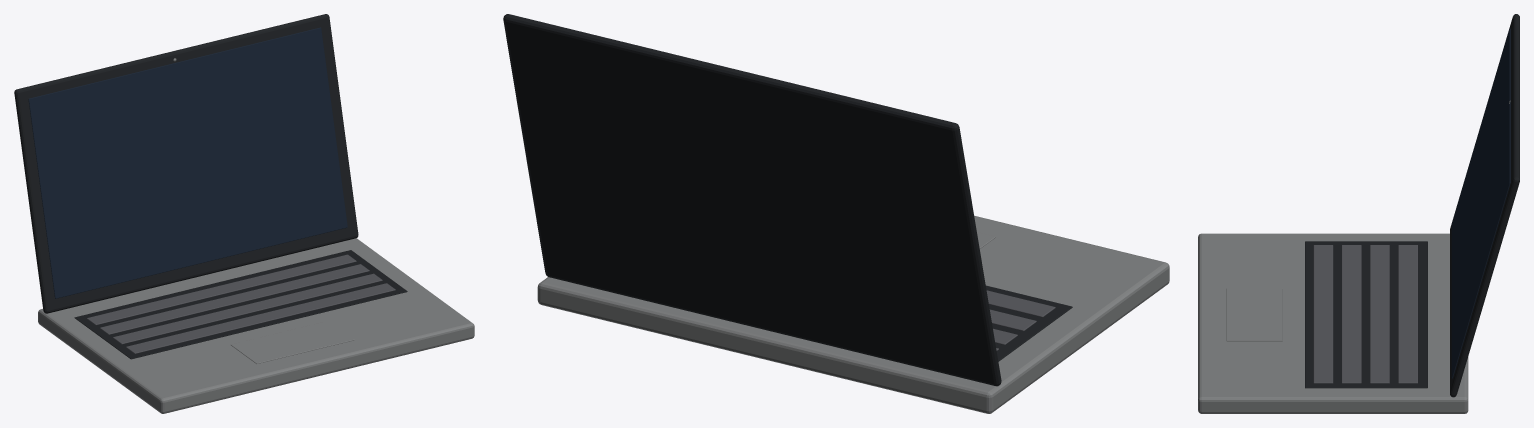
Rendered from PRP_Laptop.fbx.
3 views of the same model, side by side, from view 1: azimuth 30°, elevation 25°; view 2: azimuth 150°, elevation 25°; view 3: azimuth 270°, elevation 25° (orthographic). The views are drawn at different scales.
Visible parts, largest first — view 1: PRP_Laptop_Export; view 2: PRP_Laptop_Export; view 3: PRP_Laptop_Export.
Part boxes in pixels (left/top/right/bottom): PRP_Laptop_Export: left=14, top=14, right=474, bottom=413; PRP_Laptop_Export: left=503, top=14, right=1169, bottom=413; PRP_Laptop_Export: left=1198, top=14, right=1519, bottom=413.
Size of the model in its own units: 0.32 by 0.212 by 0.2619.
